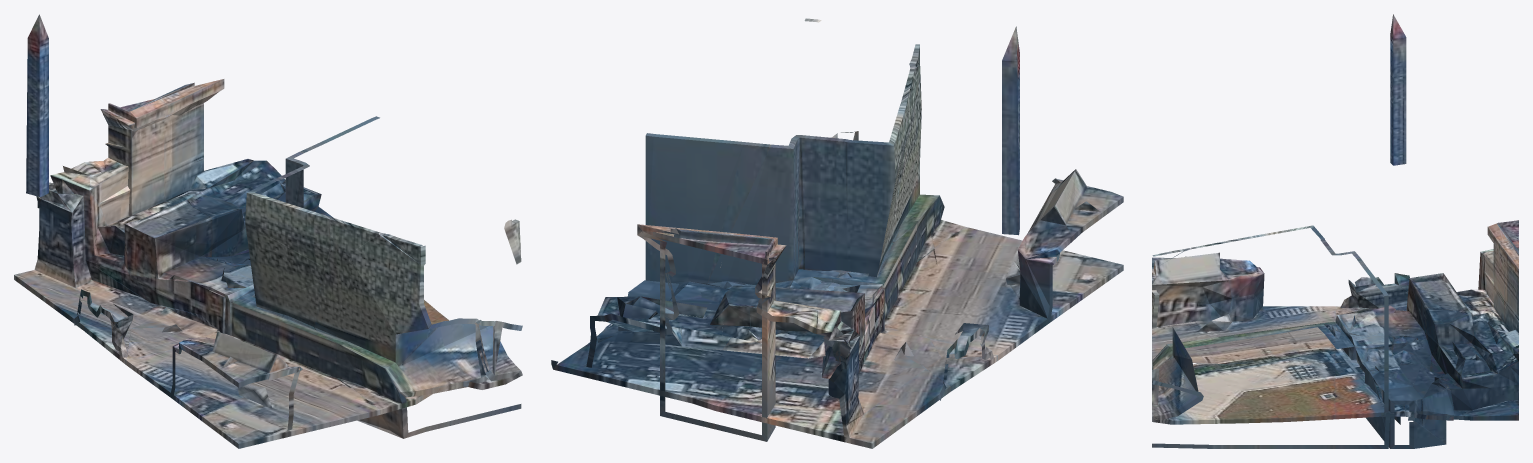
Rendered from chunk_-3_-5.glb.
3 views of the same model, side by side, from view 1: azimuth 30°, elevation 25°; view 2: azimuth 150°, elevation 25°; view 3: azimuth 270°, elevation 25° (orthographic). The views are drawn at different scales.
Visible parts, largest first — view 1: hero-chunk; view 2: hero-chunk; view 3: hero-chunk.
Boxes of the visible parts, x1,y1,x2,y2 form: hero-chunk: (14, 14, 522, 448); hero-chunk: (551, 18, 1123, 448); hero-chunk: (1152, 14, 1518, 448).
Bounding box in the file's own units: 68.01 × 69.32 × 76.32.
2 materials, 2 textured.
